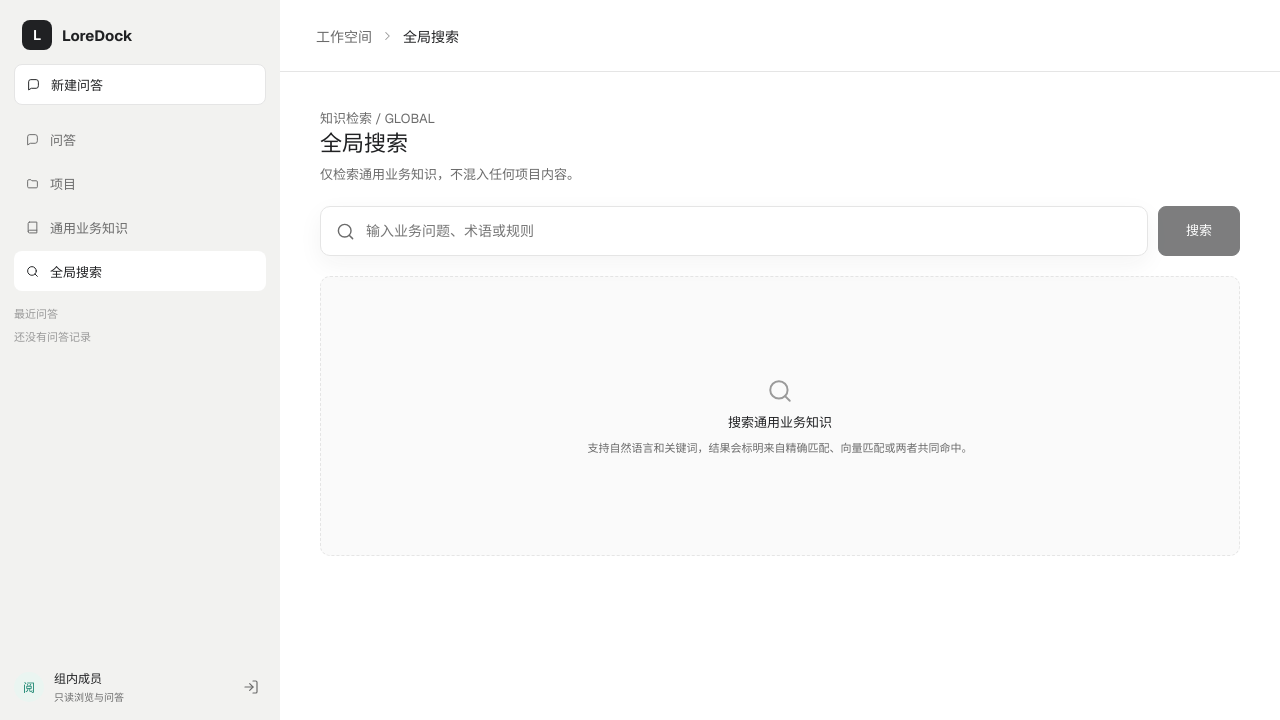
Test: GlobalSearchView › keeps the global boundary when hybrid search returns no documents
Type "不存在的内部术语" into the search field with test id "global-search-input". click: [749, 231]
box: [366, 222, 1132, 240]
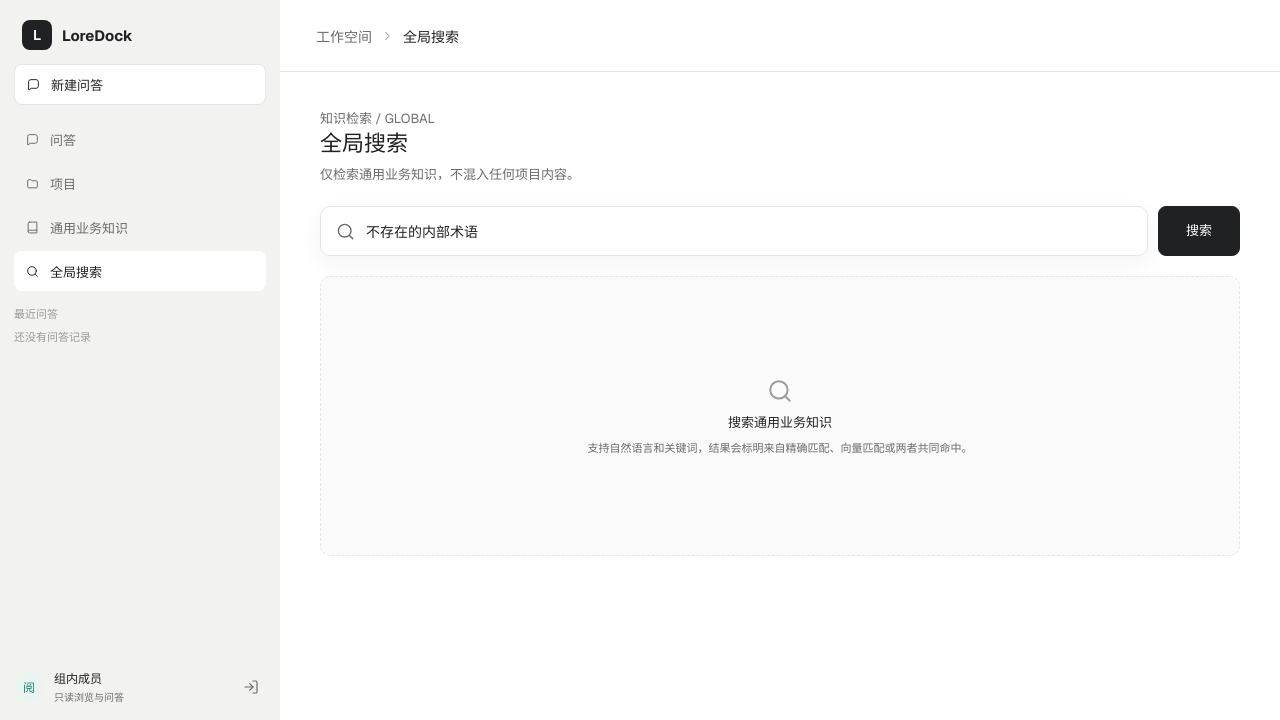
Submit the form with test id "global-search-form", box [320, 206, 1240, 256]
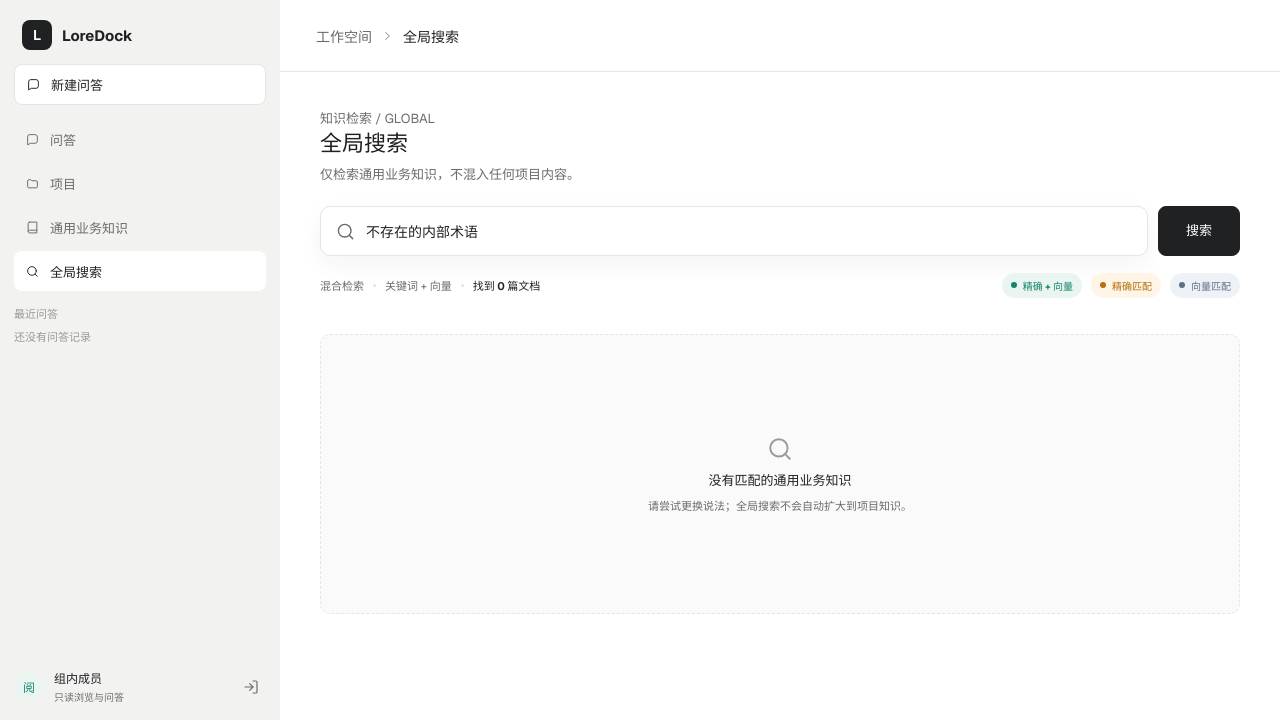
Result: the element with test id "global-search-empty" shows "没有匹配的通用业务知识" at [708, 472, 852, 488]
Result: the text "不会自动扩大到项目知识" is shown at [648, 498, 912, 512]
